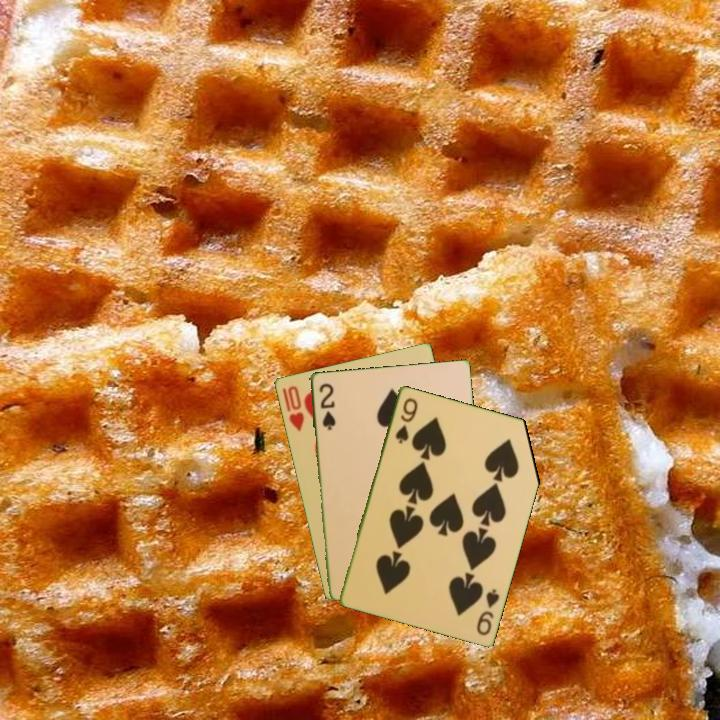10h: (284, 382, 307, 434)
2s: (315, 379, 338, 433)
9s: (473, 585, 502, 638), (391, 394, 420, 446)
